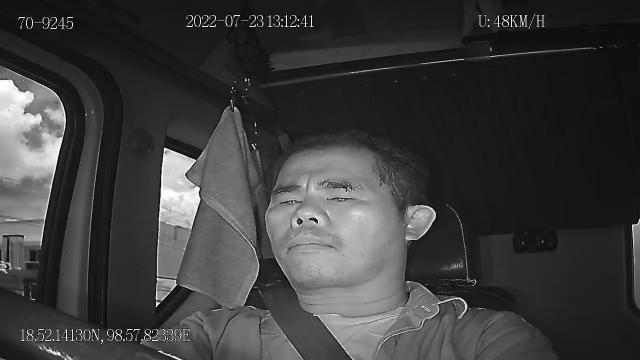SafeDriving: (318, 180, 365, 206), (270, 189, 306, 211)
Seatbelt: (256, 284, 356, 360)
